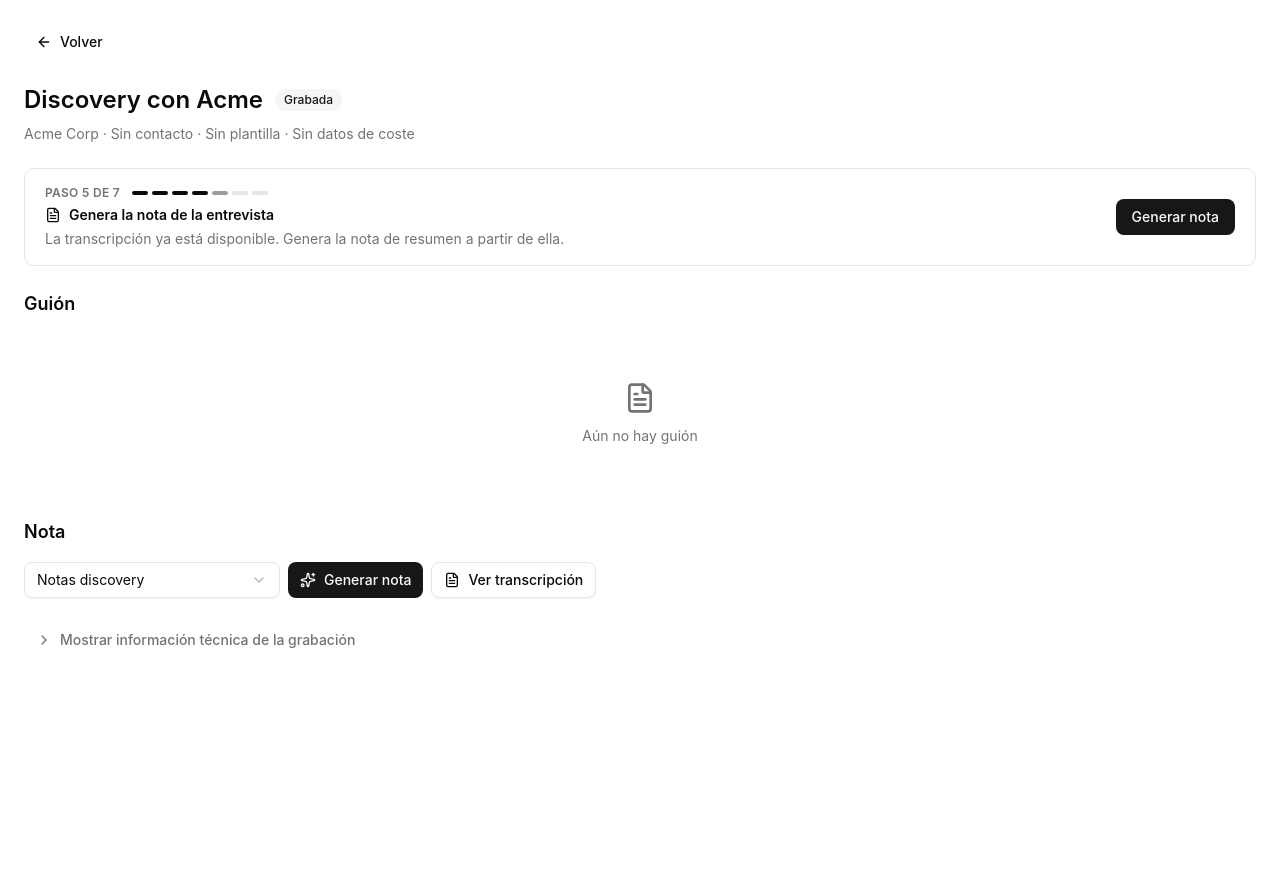
Test case: NoteSection › generation › flips the badge to "Resumida", toasts "Nota generada" and shows the note on success
The width and height of the screenshot is (1280, 890).
Click the button "Generar nota" below "Aún no hay guión" at (356, 580), box x1=288 y1=562 x2=424 y2=598
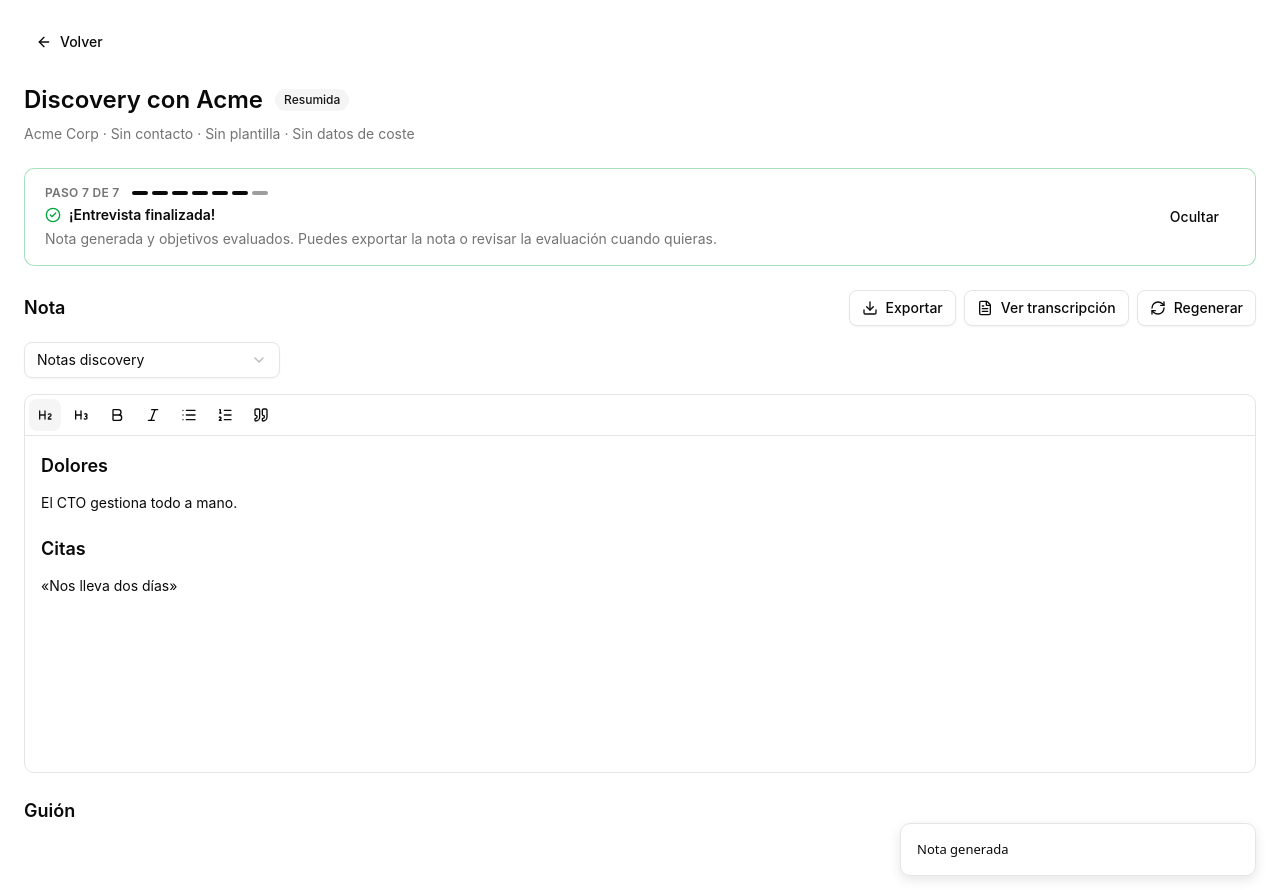
Expected: the text "Resumida" is shown, x1=275 y1=89 x2=349 y2=111
Expected: the heading "Dolores" is shown, x1=41 y1=455 x2=108 y2=476
Expected: the text box "El CTO gestiona todo a mano." is shown, x1=41 y1=494 x2=237 y2=511
